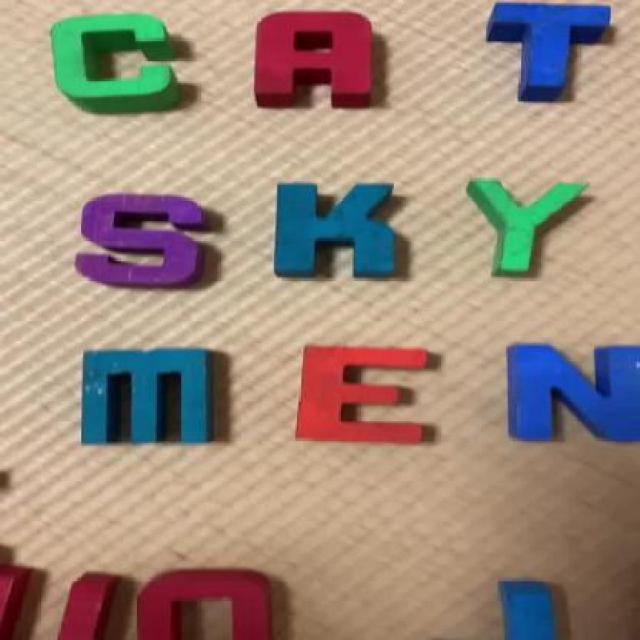A: (258, 11, 376, 107)
C: (56, 15, 184, 113)
E: (295, 346, 430, 443)
K: (279, 185, 401, 282)
M: (81, 350, 221, 445)
N: (502, 347, 640, 442)
S: (78, 194, 204, 286)
T: (492, 2, 614, 100)
Y: (470, 178, 588, 279)
